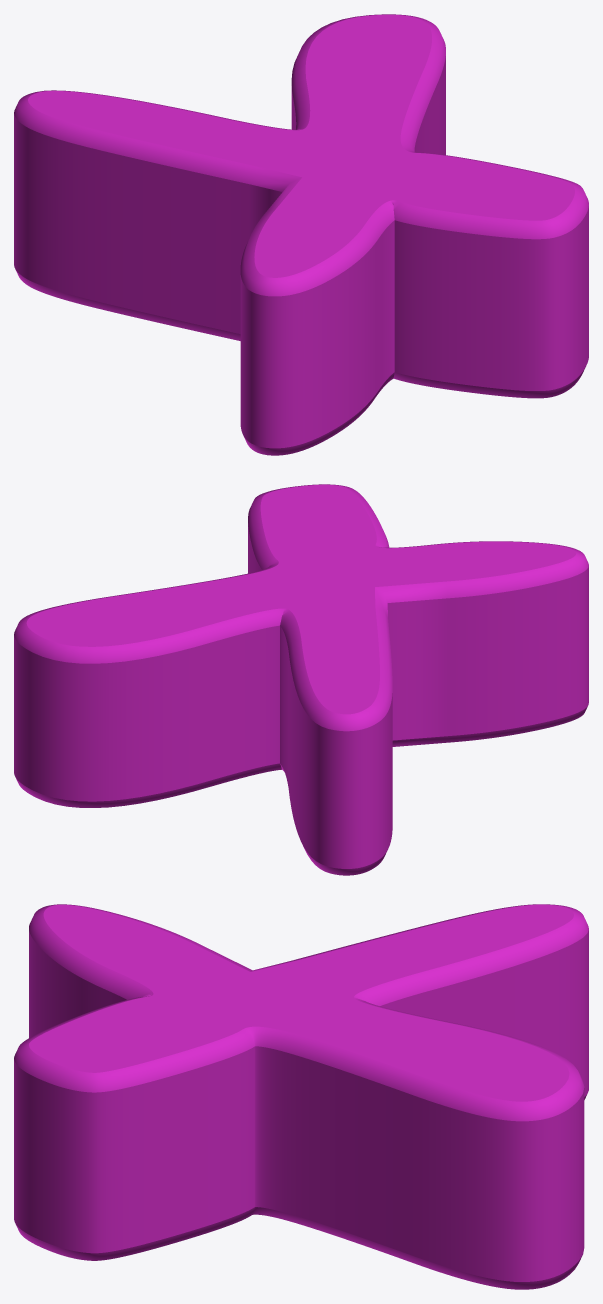
Rendered from Letter_x_Small.fbx.
3 views of the same model, one above another, from view 1: azimuth 30°, elevation 25°; view 2: azimuth 150°, elevation 25°; view 3: azimuth 270°, elevation 25° (orthographic). The views are drawn at different scales.
Visible parts, largest first — view 1: Letter_x; view 2: Letter_x; view 3: Letter_x.
Part boxes in pixels (x1=…): Letter_x: x1=14, y1=14, x2=588, y2=455; Letter_x: x1=14, y1=484, x2=588, y2=875; Letter_x: x1=14, y1=904, x2=588, y2=1289.
Bounding box in the file's own units: 0.3354 × 0.14 × 0.389.
